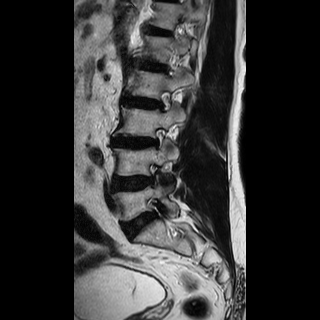LFS0: (148, 121, 170, 154), (152, 87, 174, 118)
LFS3: (144, 158, 171, 193)
